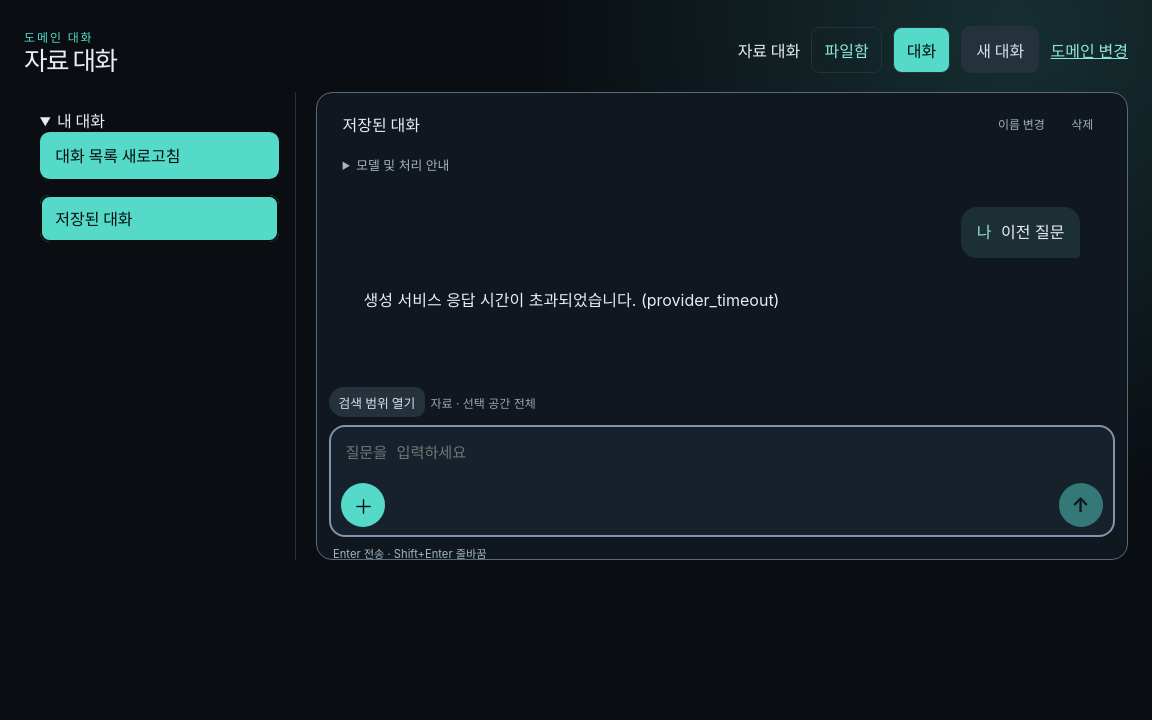
Test: renames and deletes the selected session using the current server revision
Expected: the text "이전 질문" is shown, [1001, 222, 1064, 242]
Click the button with aria-label "대화 이름 변경" at (1021, 124), box [990, 110, 1053, 137]
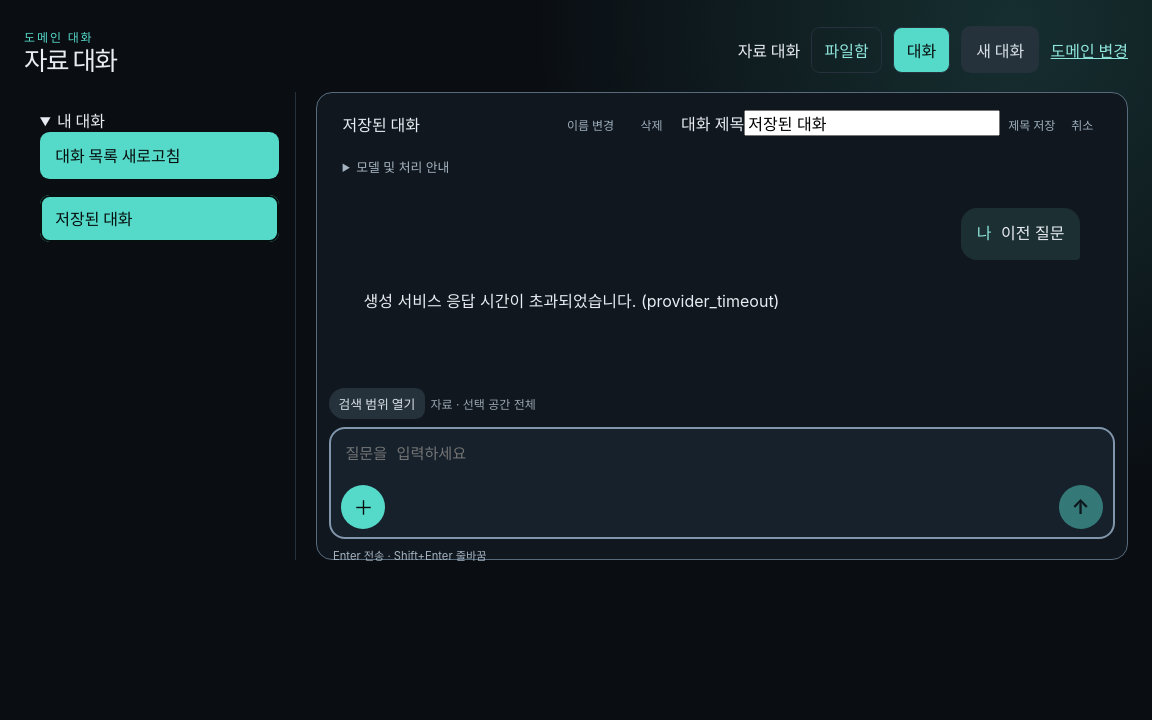
Replace the text in the field labelled "대화 제목" with "새 제목" at (872, 124), box [744, 110, 1000, 136]
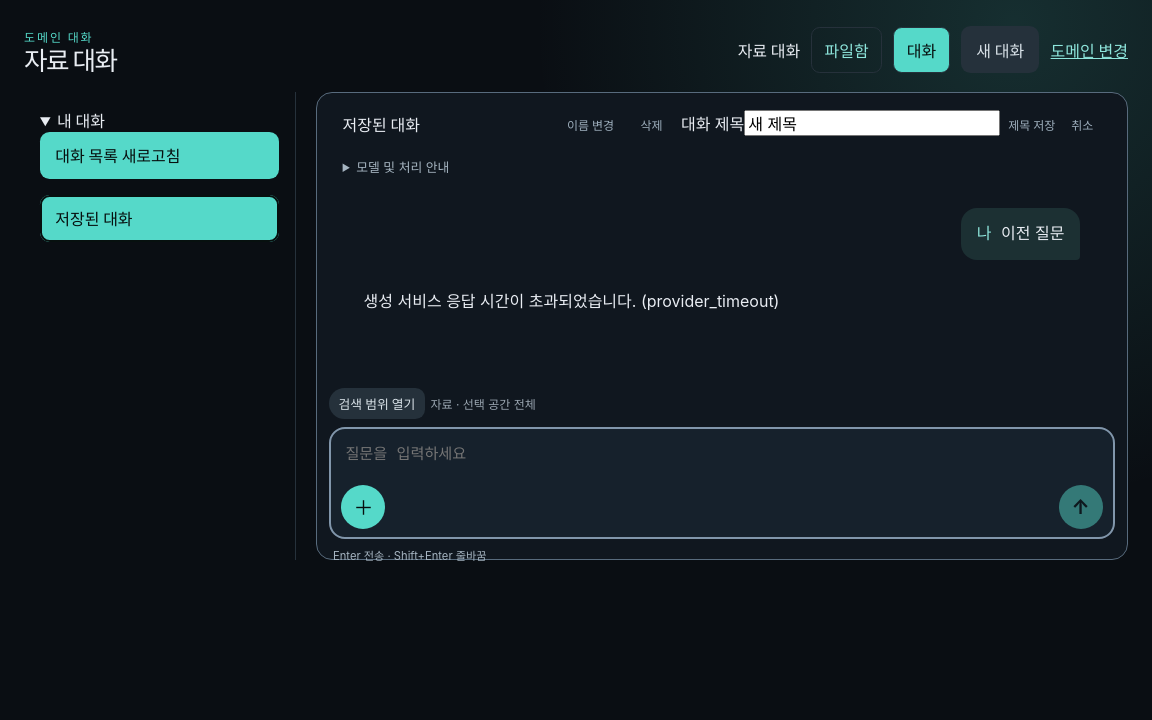
Click the button "제목 저장" at (1032, 125), box [1000, 112, 1063, 138]
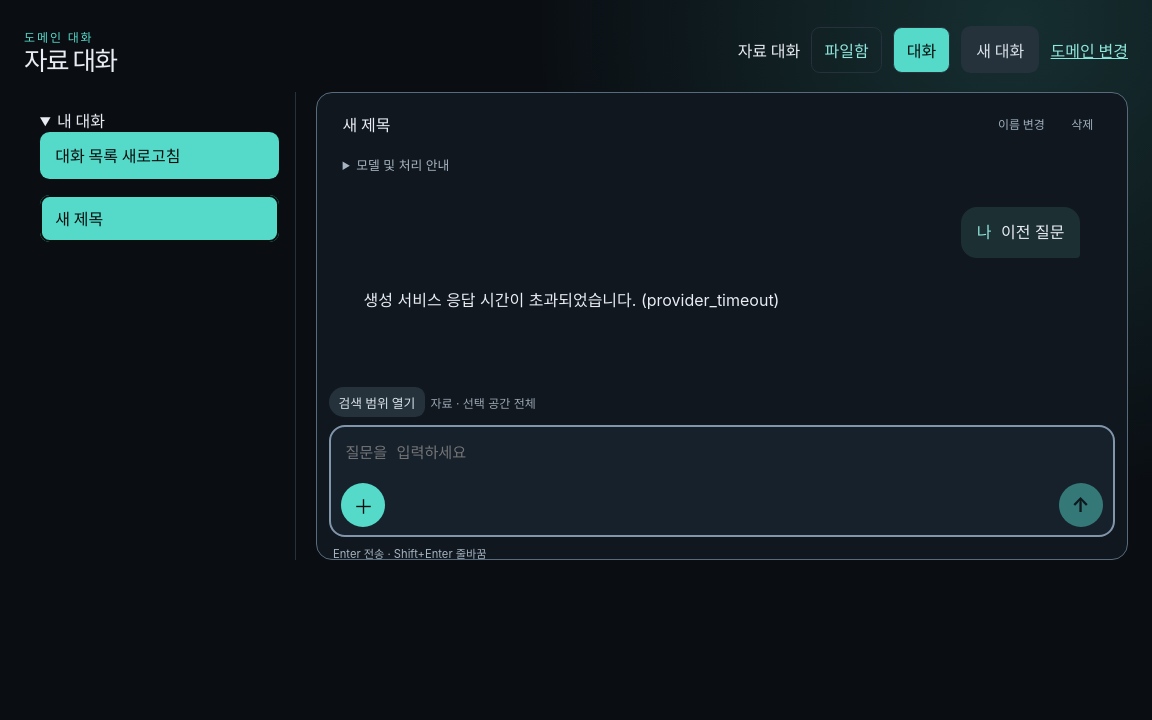
Now the button "새 제목" is shown, box [40, 195, 279, 242]
Click the button with aria-label "대화 삭제" at (1082, 124), box [1063, 110, 1101, 137]
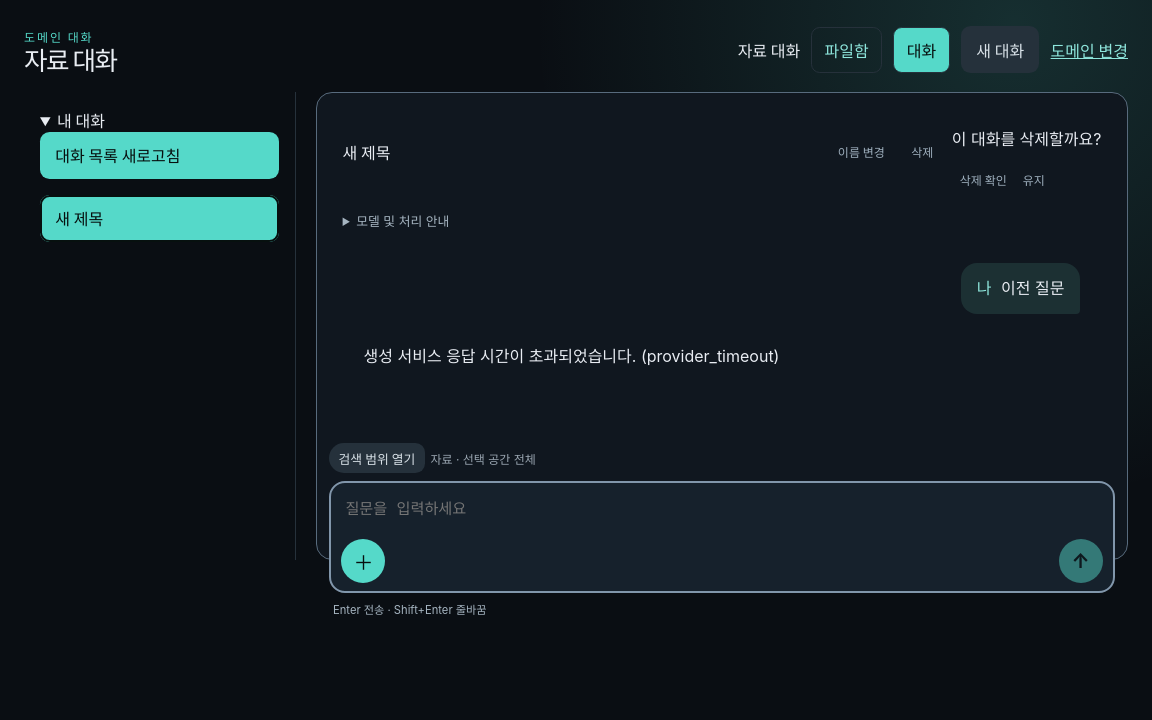
Click the button "삭제 확인" at (983, 180), box [952, 166, 1015, 193]
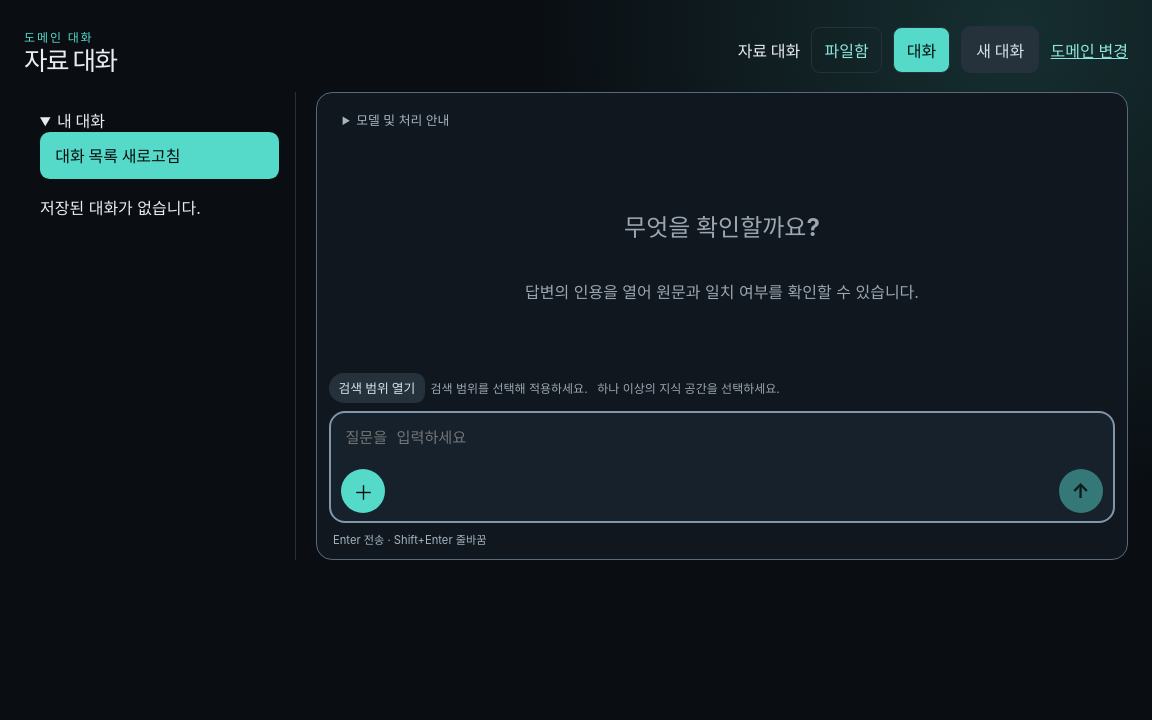
Now the text "이전 질문" is gone
